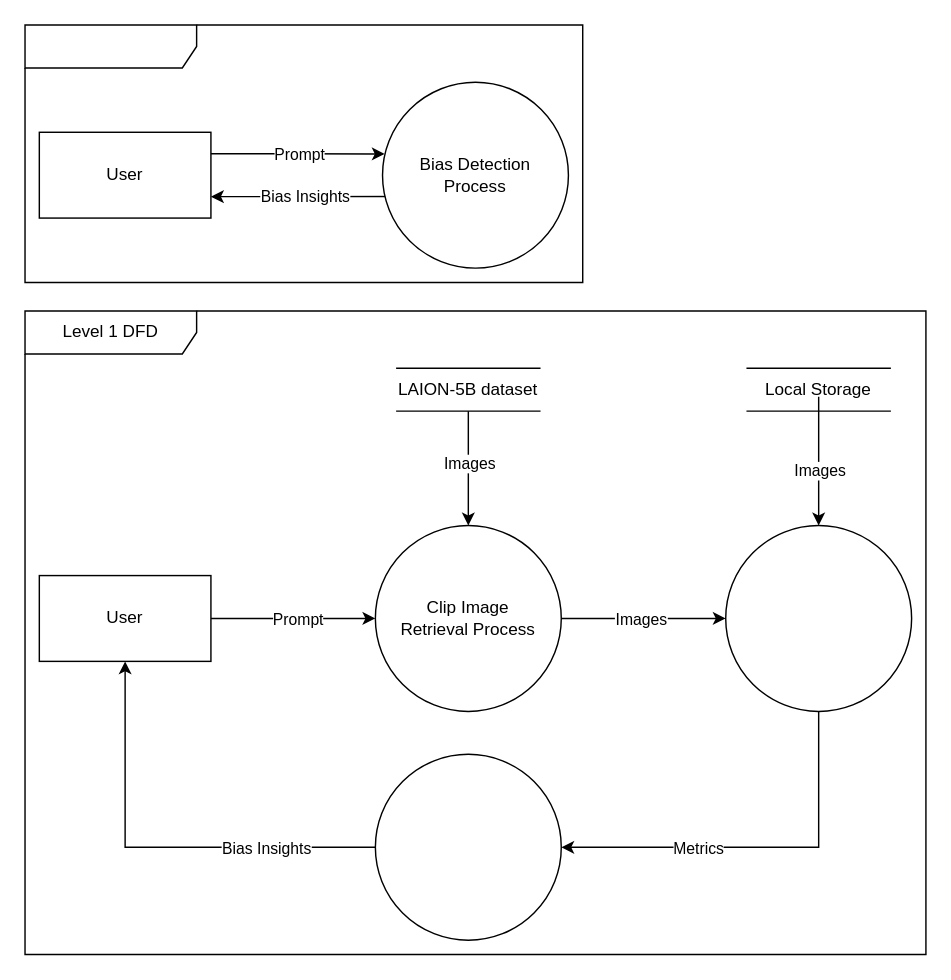
Some shapes in this 951 by 980 pixel diagram are drawn without their labels. The shapes that lost their labels are listed below. From the top down, each one's centre as x and y in pixels, then its label:
the point at 303,153: Context Level DFD
the point at 818,617: Feature Extraction Process
the point at 467,846: Metric Visualisation Process
